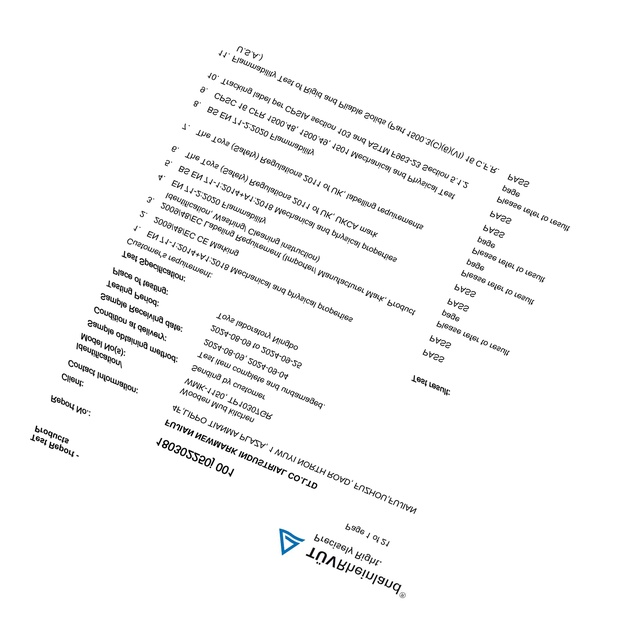tuv_rheinland: (276, 526, 409, 604)
